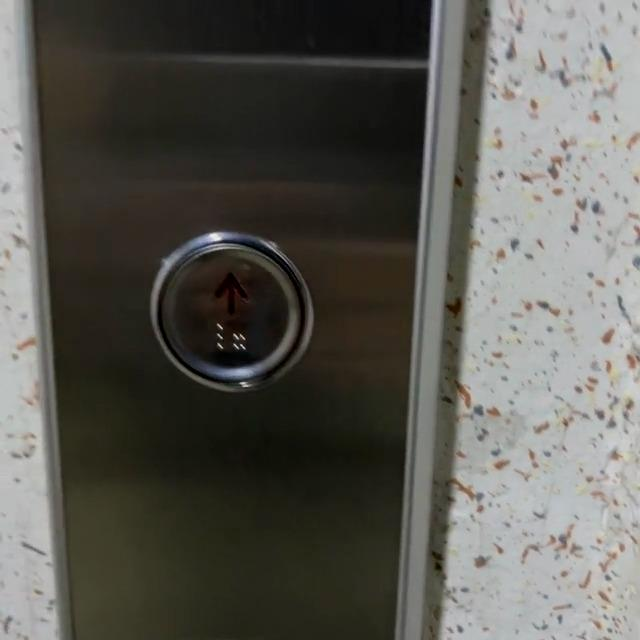button: (149, 228, 302, 387)
